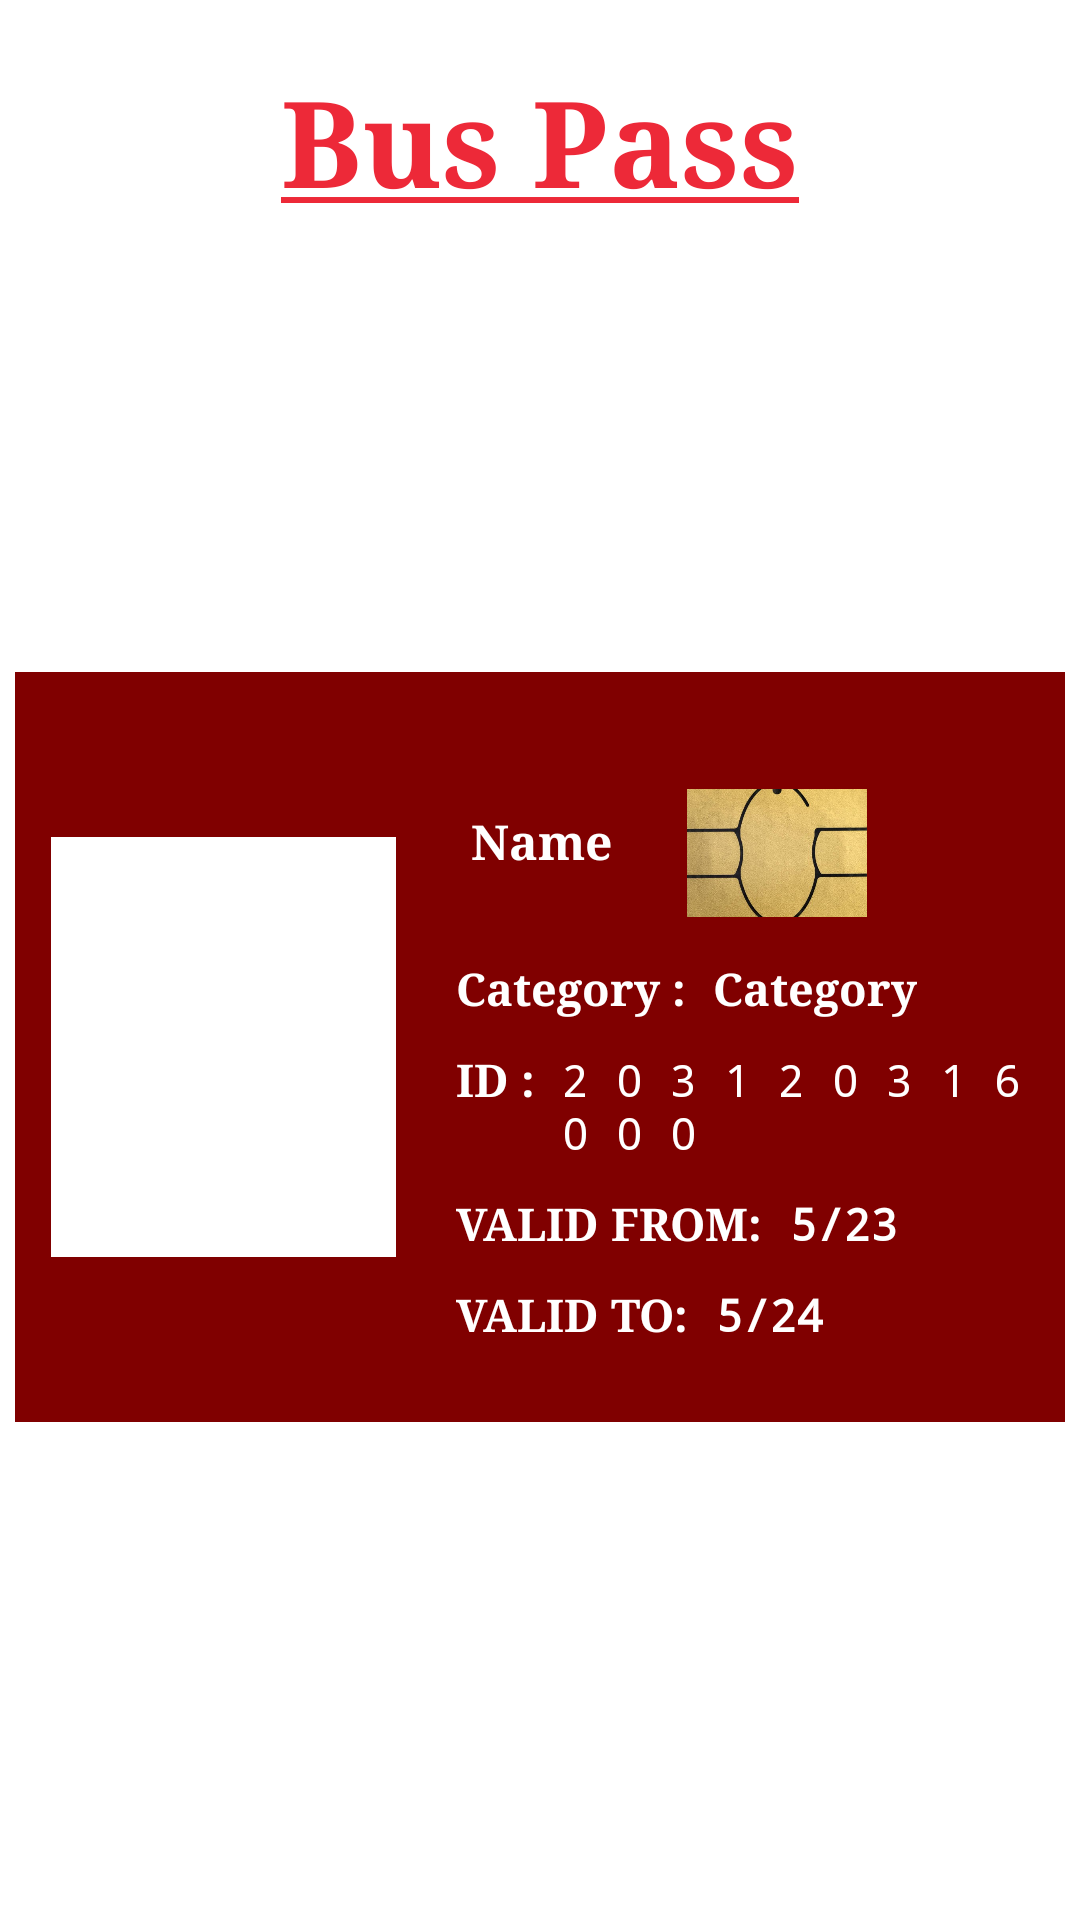

Point at icon controls on the screen. Image size 1080*1920, points as [x,y].
chip: [777,853]
